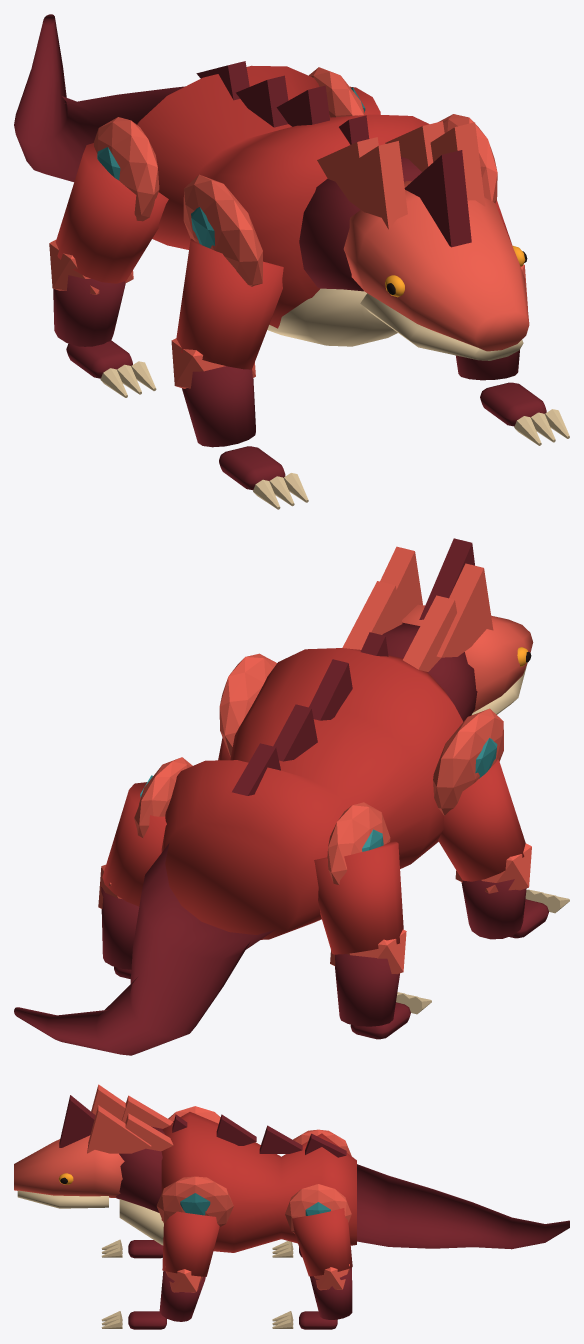
The model's file is scarlet-hunter-production-blockout-v2.glb.
3 views of the same model, one above another, from view 1: azimuth 30°, elevation 25°; view 2: azimuth 150°, elevation 25°; view 3: azimuth 270°, elevation 25° (orthographic). The views are drawn at different scales.
Visible parts, largest first — view 1: ScarletHunterProductionBlockout; view 2: ScarletHunterProductionBlockout; view 3: ScarletHunterProductionBlockout.
Boxes of the visible parts, <box> form: ScarletHunterProductionBlockout: <box>14,14,569,509</box>; ScarletHunterProductionBlockout: <box>14,538,569,1055</box>; ScarletHunterProductionBlockout: <box>14,1084,569,1329</box>.
Size of the model in its own units: 1.29 by 1.21 by 3.16.
